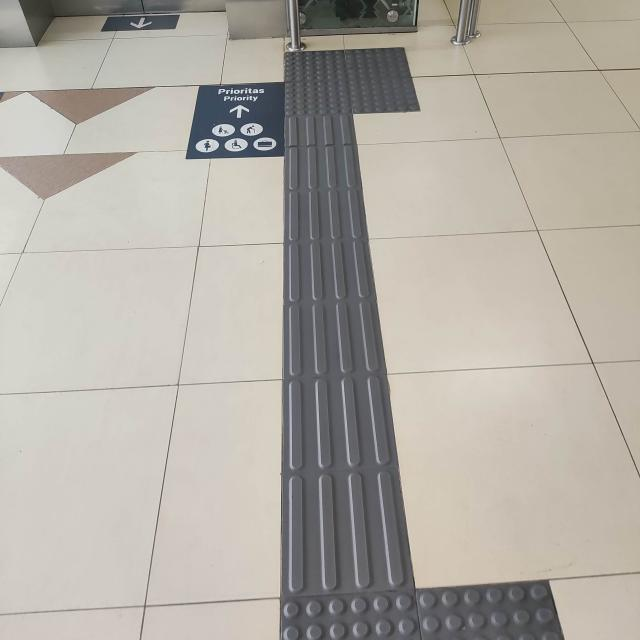lurus: (247, 118, 406, 561)
